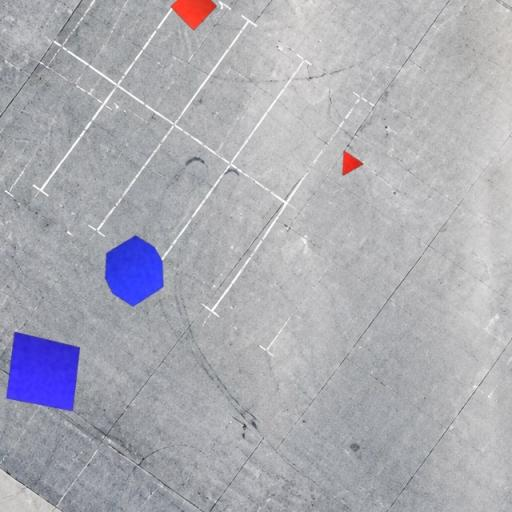BLUE_SQUARE: (6, 331, 80, 412)
RED_SQUARE: (170, 0, 218, 31)
